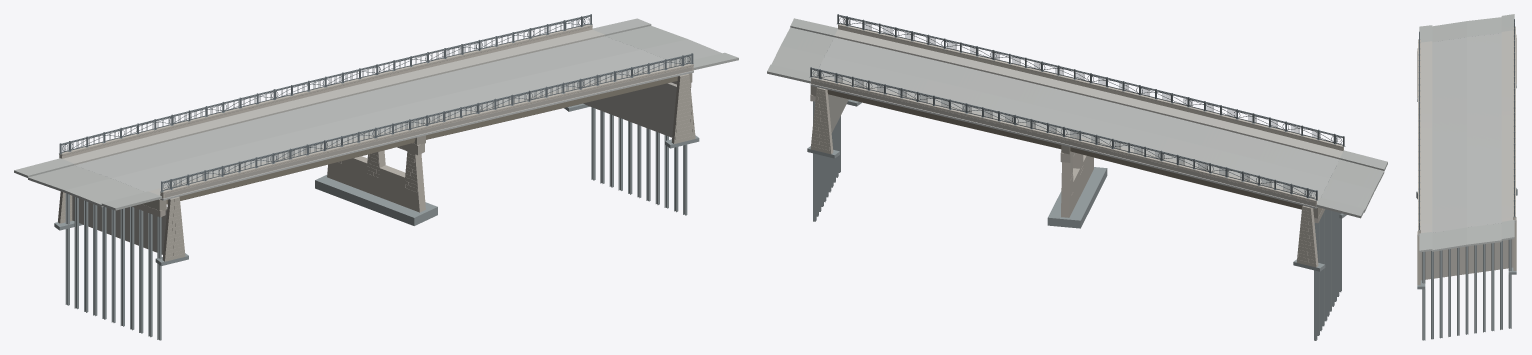
3 renders of one model, left to right at view 1: azimuth 30°, elevation 25°; view 2: azimuth 150°, elevation 25°; view 3: azimuth 270°, elevation 25°, orthographic. The views are drawn at different scales.
Parts seen in each view (by area): view 1: deck, sidewalk_1, parapet_1, parapet_-1, mse_east, approach_west, parapet_recess_-1, approach_east, pier_footing, mse_west, beam_B1, sidewalk_-1 (+20 smaller); view 2: deck, sidewalk_-1, parapet_-1, parapet_1, approach_west, parapet_recess_1, approach_east, pier_footing, beam_B3, sidewalk_1, beam_A3, monument_C (+6 smaller); view 3: deck, sidewalk_-1, sidewalk_1, mse_east, approach_east, approach_west, parapet_-1, parapet_1, b3_pile_06, b3_pile_09, b3_pile_03, b3_pile_11 (+13 smaller).
Part boxes in pixels (x1=…): deck: x1=75, y1=36, x2=693, y2=200; sidewalk_1: x1=63, y1=29, x2=604, y2=165; parapet_1: x1=59, y1=24, x2=592, y2=158; parapet_-1: x1=160, y1=63, x2=693, y2=198; mse_east: x1=583, y1=85, x2=676, y2=137; approach_west: x1=28, y1=165, x2=144, y2=207; parapet_recess_-1: x1=165, y1=67, x2=692, y2=197; approach_east: x1=605, y1=25, x2=721, y2=63; pier_footing: x1=315, y1=175, x2=437, y2=225; mse_west: x1=72, y1=196, x2=166, y2=254; beam_B1: x1=426, y1=76, x2=677, y2=139; sidewalk_-1: x1=148, y1=63, x2=681, y2=195; deck: x1=811, y1=37, x2=1339, y2=208; sidewalk_-1: x1=834, y1=29, x2=1342, y2=159; parapet_-1: x1=838, y1=24, x2=1343, y2=150; parapet_1: x1=811, y1=77, x2=1316, y2=206; approach_west: x1=1321, y1=159, x2=1384, y2=212; parapet_recess_1: x1=812, y1=80, x2=1314, y2=205; approach_east: x1=771, y1=27, x2=834, y2=74; pier_footing: x1=1047, y1=167, x2=1107, y2=228; beam_B3: x1=827, y1=90, x2=1061, y2=149; sidewalk_1: x1=814, y1=74, x2=1320, y2=203; beam_A3: x1=1070, y1=147, x2=1302, y2=209; monument_C: x1=810, y1=87, x2=833, y2=154; deck: x1=1418, y1=33, x2=1515, y2=236; sidewalk_-1: x1=1421, y1=41, x2=1432, y2=232; sidewalk_1: x1=1501, y1=30, x2=1512, y2=221; mse_east: x1=1420, y1=239, x2=1513, y2=280; approach_east: x1=1432, y1=223, x2=1501, y2=251; approach_west: x1=1432, y1=17, x2=1501, y2=42; parapet_-1: x1=1418, y1=39, x2=1420, y2=234; parapet_1: x1=1513, y1=26, x2=1515, y2=220; b3_pile_06: x1=1465, y1=246, x2=1468, y2=334; b3_pile_09: x1=1491, y1=243, x2=1494, y2=331; b3_pile_03: x1=1439, y1=250, x2=1442, y2=338; b3_pile_11: x1=1508, y1=239, x2=1511, y2=328.
Size of the model in its own units: 88.77 by 21.31 by 16.06.
